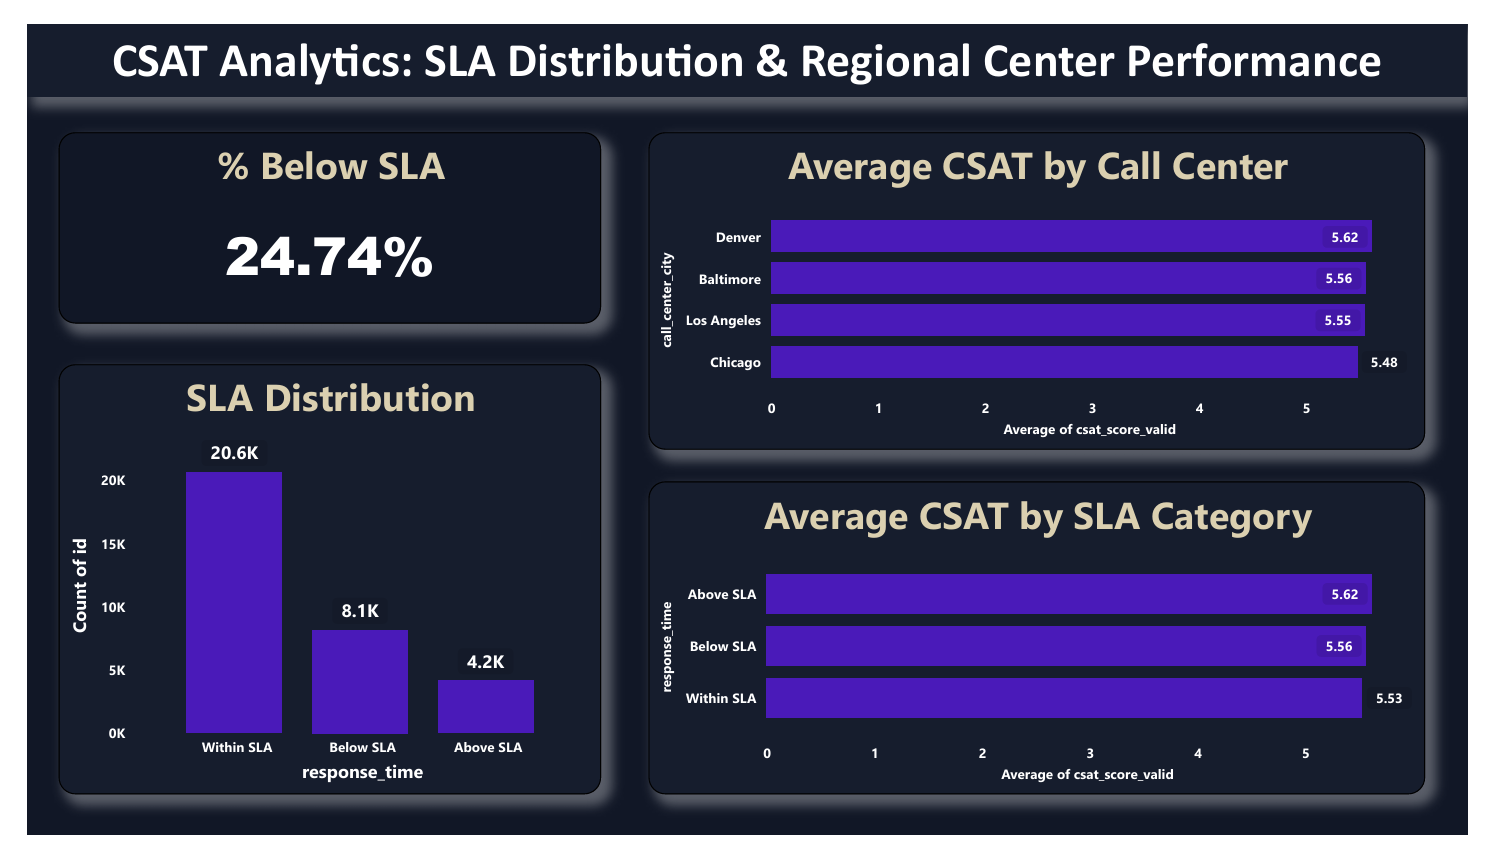

The dashboard page shown, as its layout file describes it:
{"tool":"powerbi","page":{"name":"SLA & Call Center Performance","canvas":[1280,720],"ordinal":2},"visuals":[{"type":"clusteredBarChart","title":"Average CSAT by SLA Category","fields":{"Y":["Avg(Table1.csat_score_valid)"],"Category":["Table1.response_time"]},"box":[551.8,406.3,689.8,277.8],"z":0},{"type":"clusteredBarChart","title":"Average CSAT by Call Center","fields":{"Category":["Table1.call_center_city"],"Y":["Avg(Table1.csat_score_valid)"]},"box":[551.8,96.4,689.8,281.6],"z":1000},{"type":"clusteredColumnChart","title":"SLA Distribution","fields":{"Category":["Table1.response_time"],"Y":["CountNonNull(Table1.id)"]},"box":[28.3,302.4,481.9,381.7],"z":2000},{"type":"textbox","box":[0,0,1279.4,64.3],"z":3000},{"type":"card","title":"% Below SLA","fields":{"Values":["Table1.% Below SLA"]},"box":[28.3,96.4,481.9,170.1],"z":4000}]}

Visuals, with their boxes in screenshot pixels (x1, y1, x2, y2), scaled from the page's 1280x720 canvas onto the 1495x862 screenshot:
"Average CSAT by SLA Category" clusteredBarChart: <region>644, 486, 1450, 819</region>
"Average CSAT by Call Center" clusteredBarChart: <region>644, 115, 1450, 453</region>
"SLA Distribution" clusteredColumnChart: <region>33, 362, 596, 819</region>
textbox: <region>0, 0, 1494, 77</region>
"% Below SLA" card: <region>33, 115, 596, 319</region>
